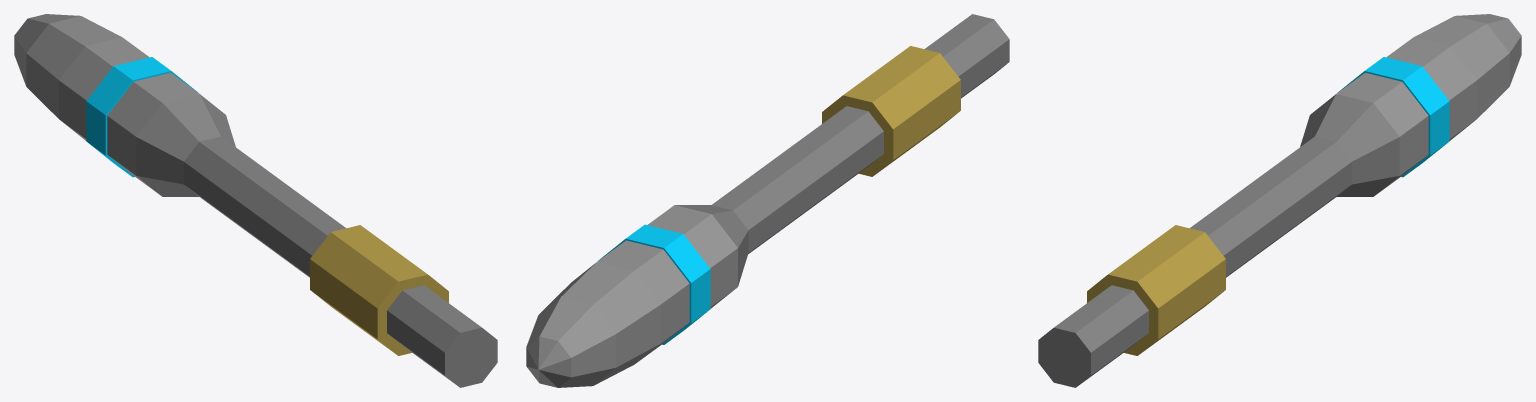
The model's file is ce_ammo2_spg9_emp_a.obj.
3 renders of one model, left to right at view 1: azimuth 30°, elevation 25°; view 2: azimuth 150°, elevation 25°; view 3: azimuth 330°, elevation 25°, orthographic.
Visible parts, largest first — view 1: ce_ammo2_spg9_emp_a_2, ce_ammo2_spg9_emp_a_1, ce_ammo2_spg9_emp_a_0, ce_ammo2_spg9_emp_a_3, ce_ammo2_spg9_emp_a_7, ce_ammo2_spg9_emp_a_4, ce_ammo2_spg9_emp_a_6, ce_ammo2_spg9_emp_a_5, ce_ammo2_spg9_emp_a_8; view 2: ce_ammo2_spg9_emp_a_2, ce_ammo2_spg9_emp_a_1, ce_ammo2_spg9_emp_a_7, ce_ammo2_spg9_emp_a_8, ce_ammo2_spg9_emp_a_6, ce_ammo2_spg9_emp_a_0, ce_ammo2_spg9_emp_a_4, ce_ammo2_spg9_emp_a_5, ce_ammo2_spg9_emp_a_9, ce_ammo2_spg9_emp_a_3; view 3: ce_ammo2_spg9_emp_a_2, ce_ammo2_spg9_emp_a_1, ce_ammo2_spg9_emp_a_0, ce_ammo2_spg9_emp_a_3, ce_ammo2_spg9_emp_a_7, ce_ammo2_spg9_emp_a_4, ce_ammo2_spg9_emp_a_6, ce_ammo2_spg9_emp_a_5, ce_ammo2_spg9_emp_a_8.
Part boxes in pixels (x1=…): ce_ammo2_spg9_emp_a_2: x1=184, y1=136, x2=345, y2=277; ce_ammo2_spg9_emp_a_1: x1=310, y1=225, x2=448, y2=355; ce_ammo2_spg9_emp_a_0: x1=387, y1=285, x2=497, y2=387; ce_ammo2_spg9_emp_a_3: x1=136, y1=94, x2=235, y2=196; ce_ammo2_spg9_emp_a_7: x1=26, y1=16, x2=121, y2=118; ce_ammo2_spg9_emp_a_4: x1=107, y1=72, x2=199, y2=194; ce_ammo2_spg9_emp_a_6: x1=59, y1=37, x2=149, y2=140; ce_ammo2_spg9_emp_a_5: x1=86, y1=57, x2=198, y2=177; ce_ammo2_spg9_emp_a_8: x1=14, y1=14, x2=79, y2=85; ce_ammo2_spg9_emp_a_2: x1=711, y1=106, x2=883, y2=253; ce_ammo2_spg9_emp_a_1: x1=822, y1=46, x2=960, y2=176; ce_ammo2_spg9_emp_a_7: x1=540, y1=261, x2=660, y2=385; ce_ammo2_spg9_emp_a_8: x1=526, y1=297, x2=615, y2=387; ce_ammo2_spg9_emp_a_6: x1=597, y1=240, x2=689, y2=361; ce_ammo2_spg9_emp_a_0: x1=924, y1=14, x2=1009, y2=98; ce_ammo2_spg9_emp_a_4: x1=648, y1=205, x2=737, y2=308; ce_ammo2_spg9_emp_a_5: x1=598, y1=224, x2=710, y2=344; ce_ammo2_spg9_emp_a_9: x1=526, y1=336, x2=571, y2=387; ce_ammo2_spg9_emp_a_3: x1=675, y1=205, x2=748, y2=286; ce_ammo2_spg9_emp_a_2: x1=1190, y1=136, x2=1351, y2=277; ce_ammo2_spg9_emp_a_1: x1=1087, y1=225, x2=1225, y2=355; ce_ammo2_spg9_emp_a_0: x1=1038, y1=285, x2=1148, y2=387; ce_ammo2_spg9_emp_a_3: x1=1300, y1=94, x2=1399, y2=196; ce_ammo2_spg9_emp_a_7: x1=1414, y1=16, x2=1509, y2=118; ce_ammo2_spg9_emp_a_4: x1=1336, y1=72, x2=1428, y2=194; ce_ammo2_spg9_emp_a_6: x1=1386, y1=37, x2=1476, y2=140; ce_ammo2_spg9_emp_a_5: x1=1337, y1=57, x2=1449, y2=177; ce_ammo2_spg9_emp_a_8: x1=1456, y1=14, x2=1521, y2=85.
Size of the model in its own units: 0.1108 by 0.1108 by 0.92.
